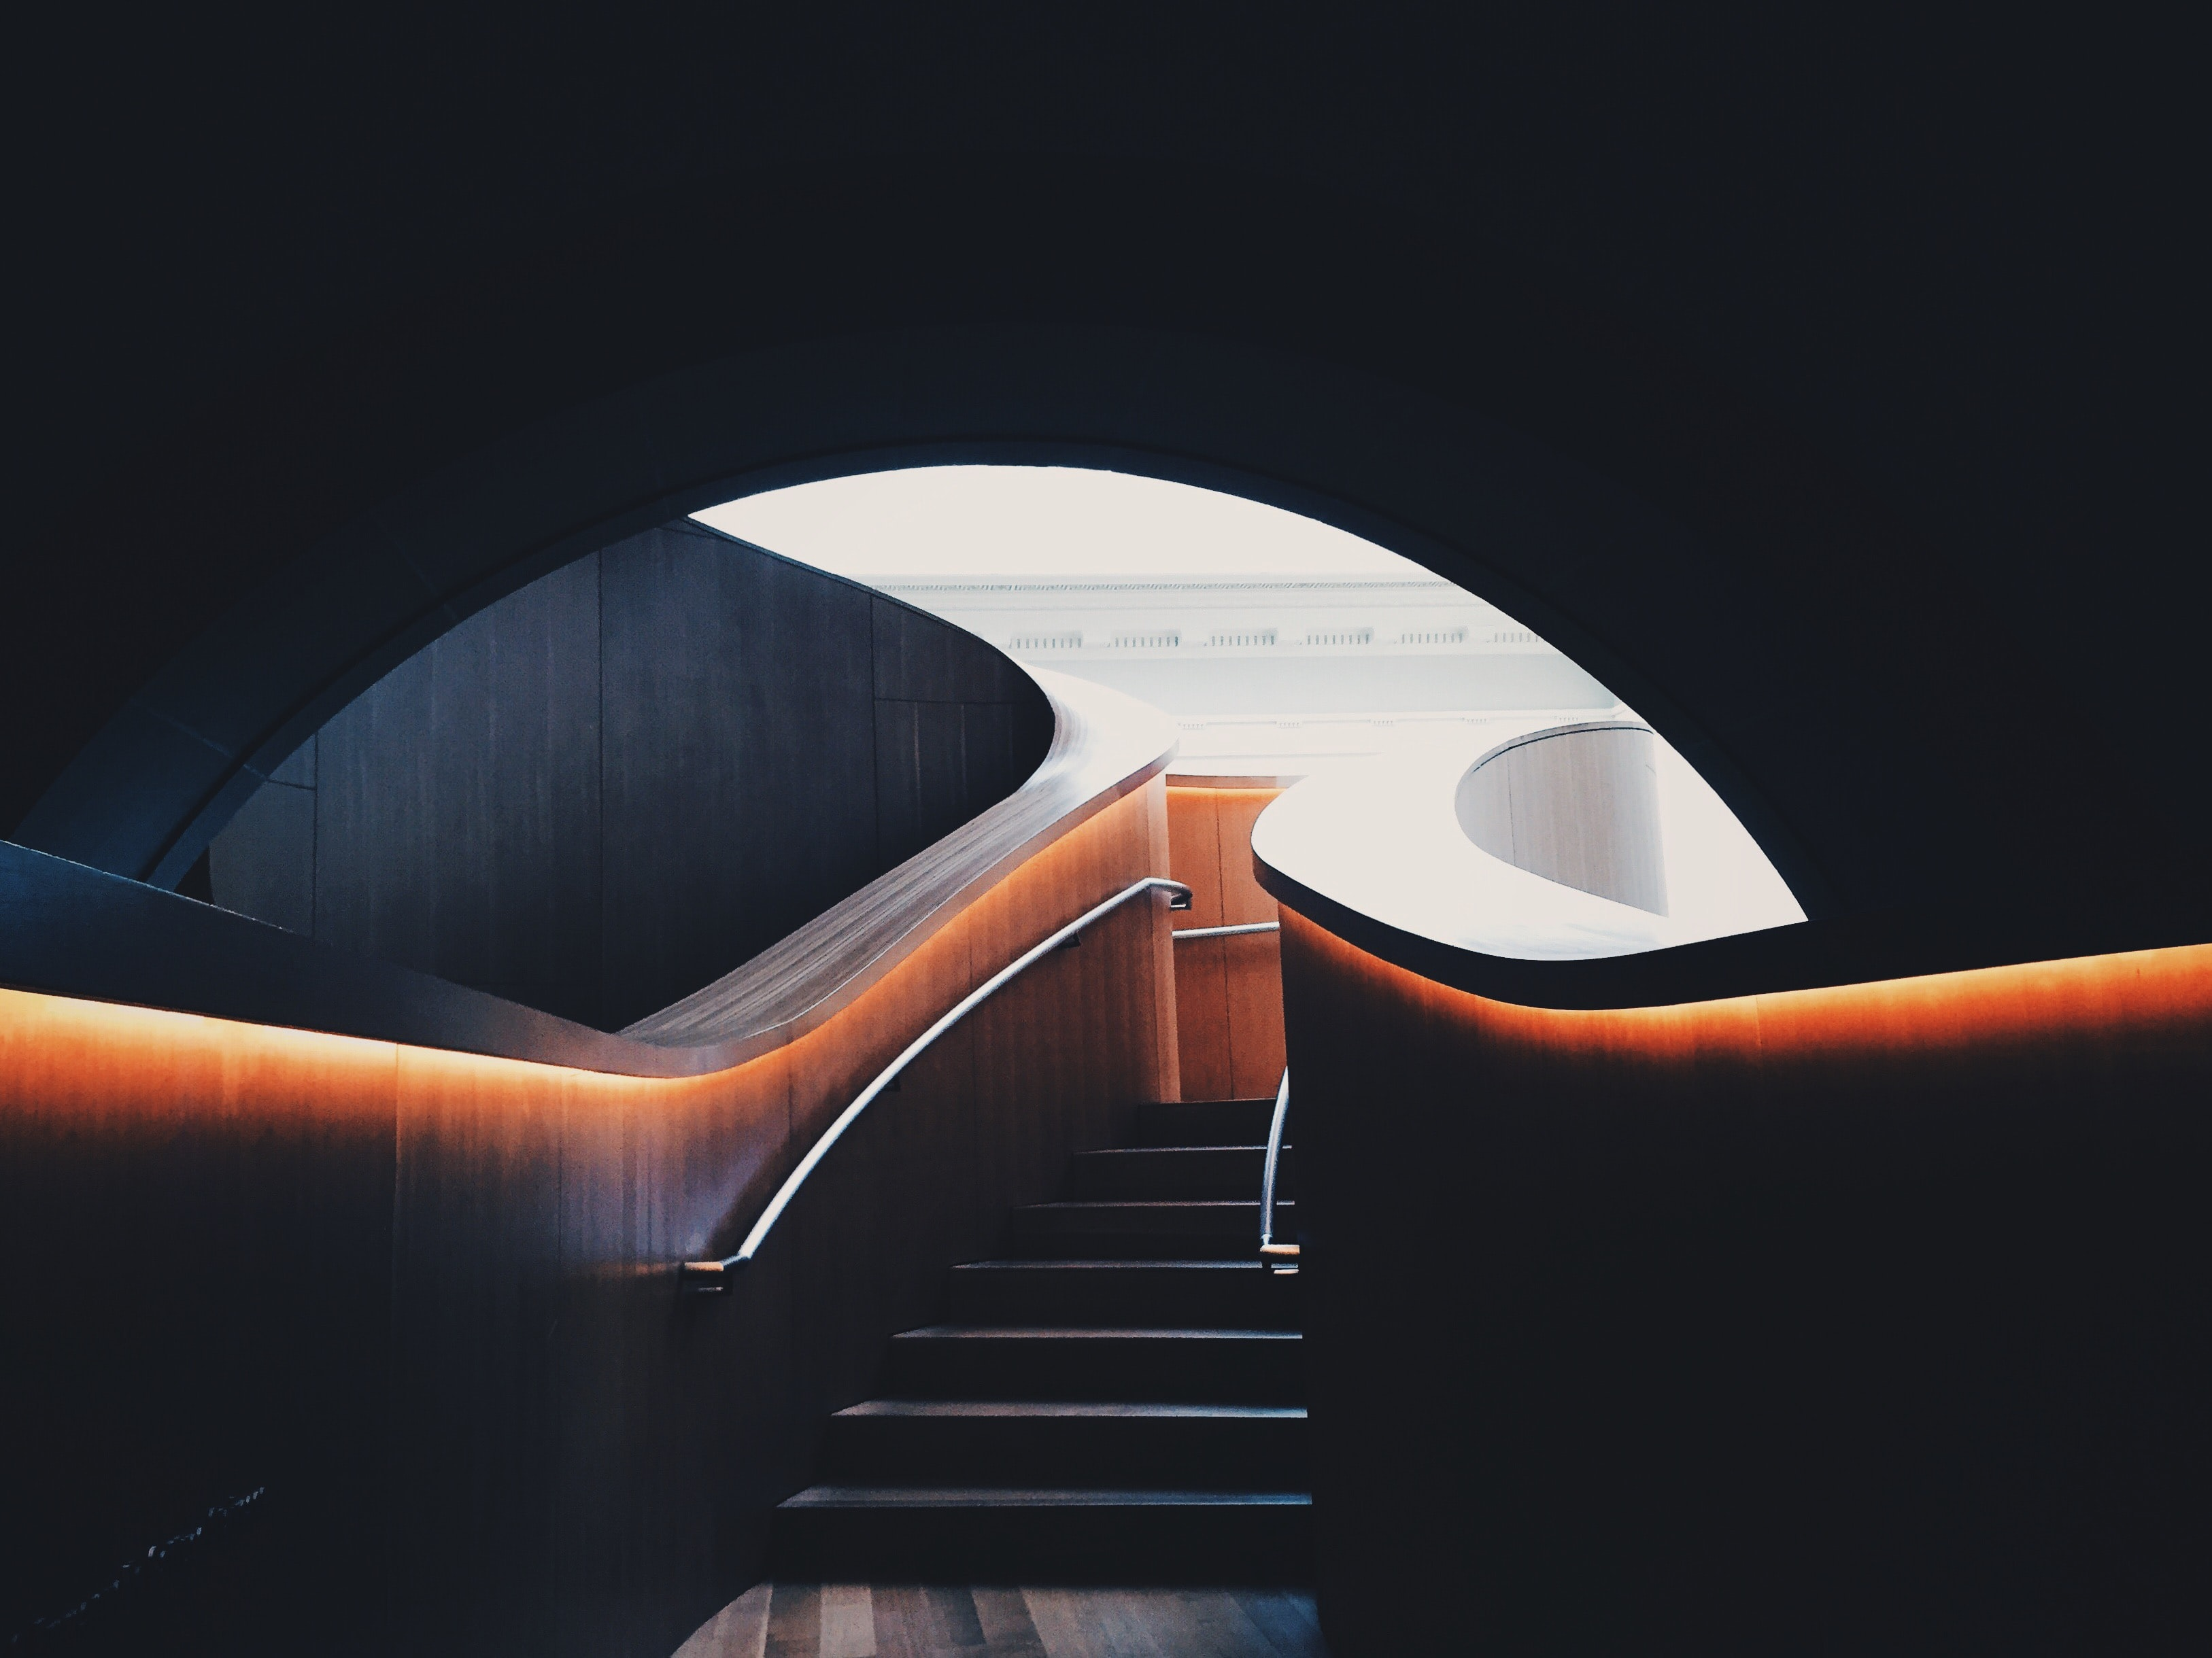upstairs: (941, 1233, 1303, 1599)
